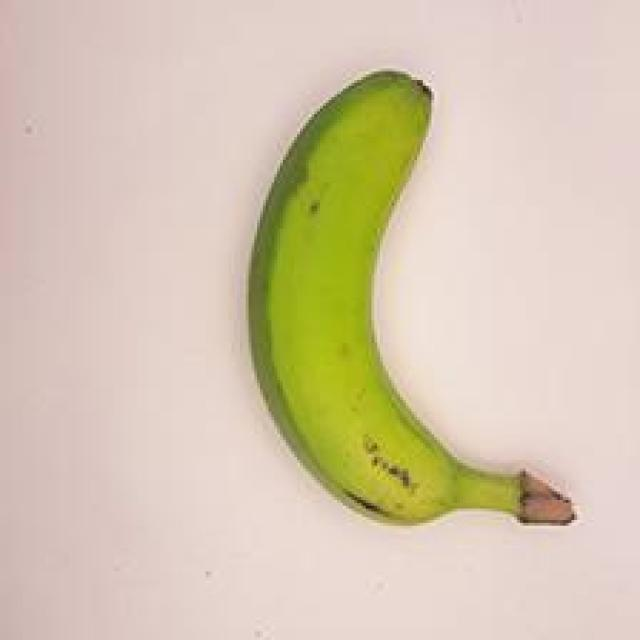unripe: (205, 55, 605, 556)
